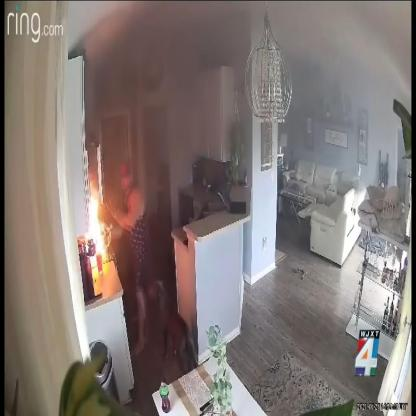fire: (88, 195, 104, 254)
